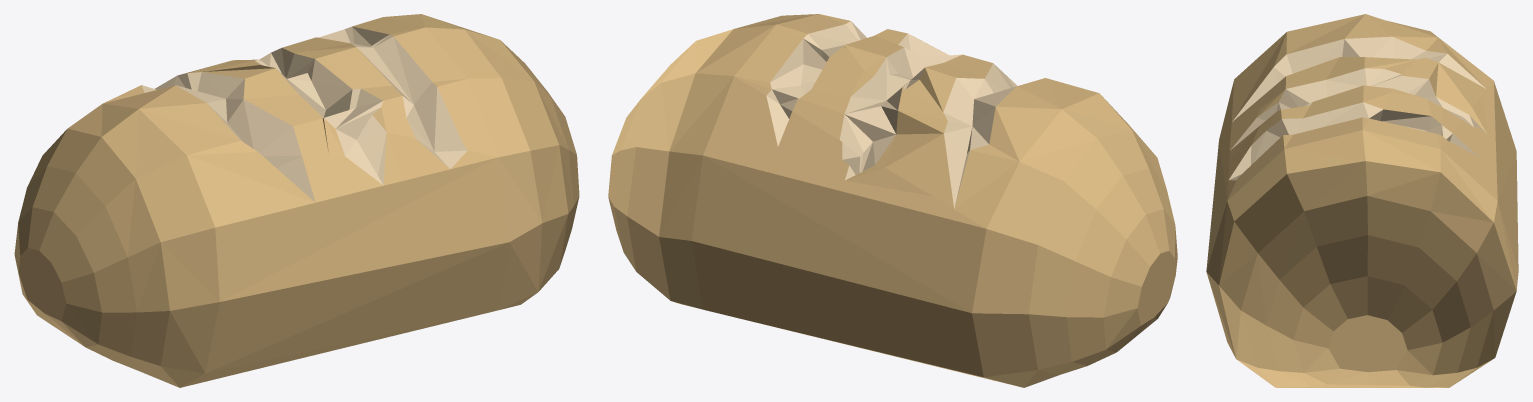
Rendered from bread.fbx.
The picture shows the model from 3 angles, left to right: view 1: azimuth 30°, elevation 25°; view 2: azimuth 150°, elevation 25°; view 3: azimuth 270°, elevation 25°; orthographic projection. The views are drawn at different scales.
Visible parts, largest first — view 1: model:Mesh; view 2: model:Mesh; view 3: model:Mesh.
Boxes of the visible parts, x1=… form: model:Mesh: x1=14, y1=14, x2=579, y2=387; model:Mesh: x1=608, y1=14, x2=1177, y2=387; model:Mesh: x1=1206, y1=14, x2=1518, y2=387.
Bounding box in the file's own units: 17.53 × 8.14 × 9.77.
